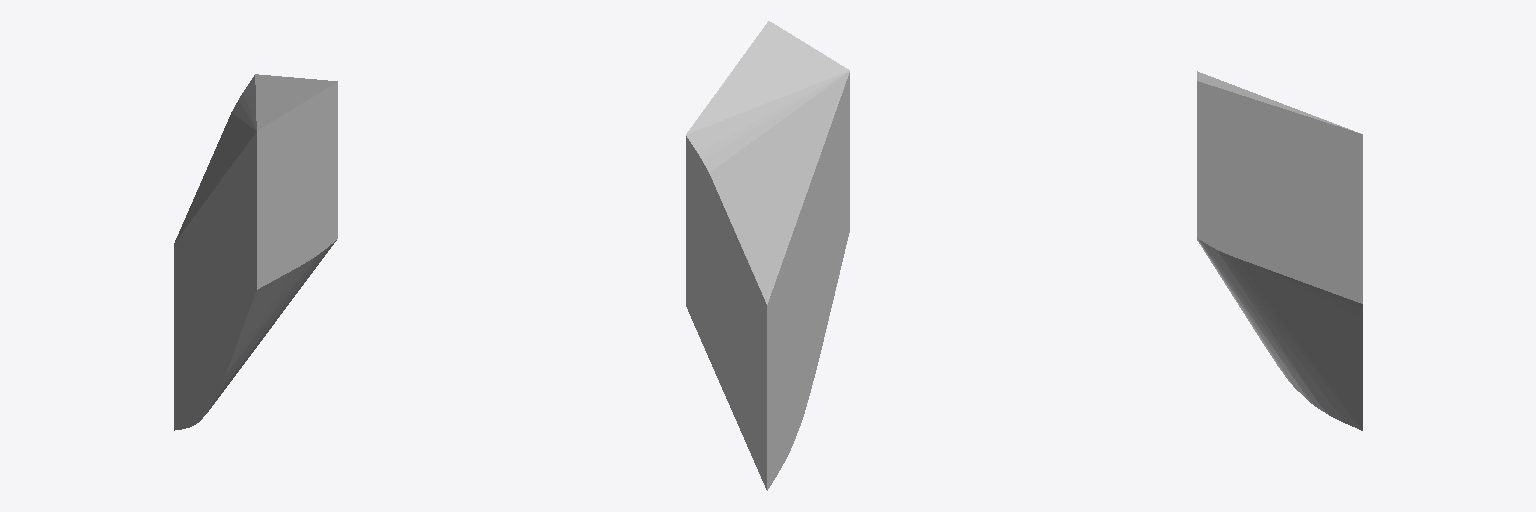
The model's file is Bowl_21_collision_17.obj.
3 renders of one model, left to right at view 1: azimuth 30°, elevation 25°; view 2: azimuth 150°, elevation 25°; view 3: azimuth 270°, elevation 25°, orthographic.
Bounding box in the file's own units: 0.0151 × 0.069 × 0.0266.